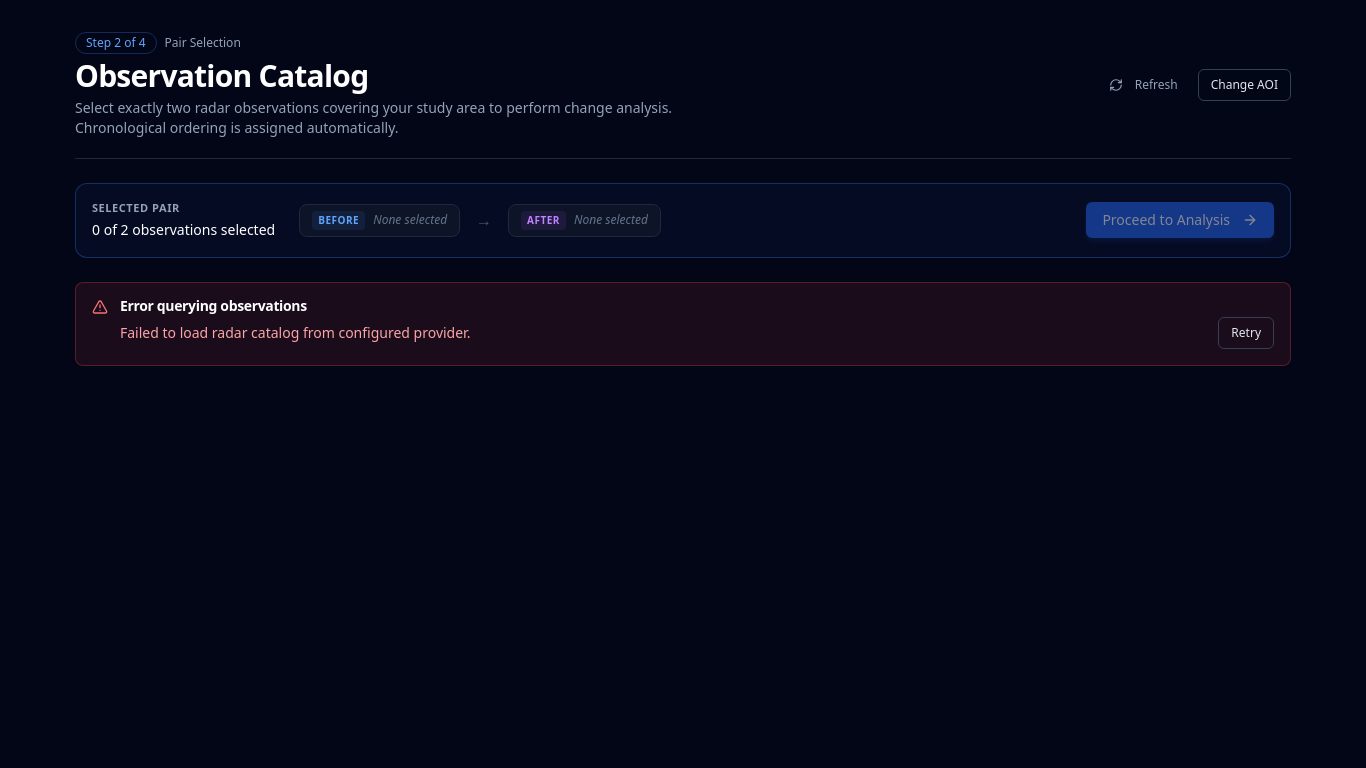
Test case: ObservationsPage › renders error alert with Retry and empty catalog state cleanly
Expected: the heading "Error querying observations" is shown, top-left (120, 296), bottom-right (307, 314)
Click the button "Retry": [1246, 332] box top-left (1218, 316), bottom-right (1274, 348)
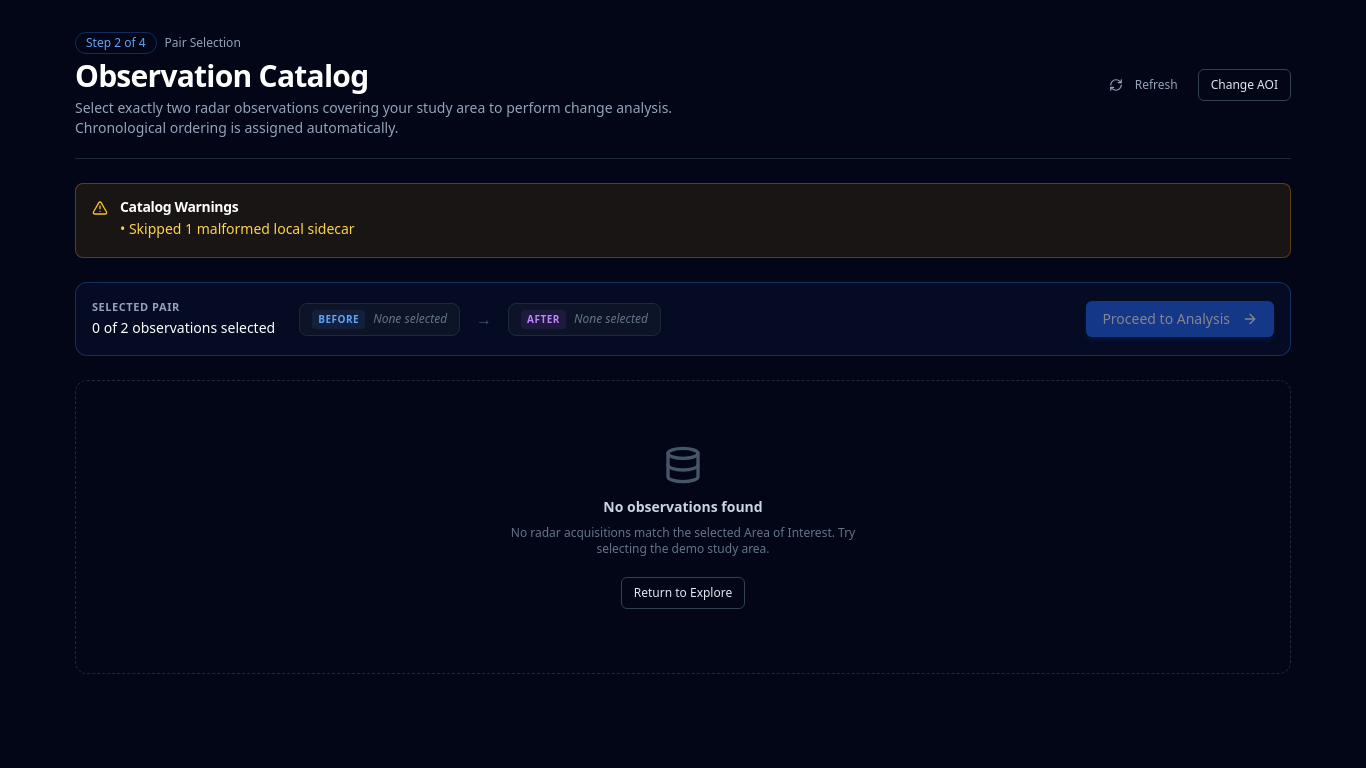
Expected: the text "No observations found" is shown, top-left (603, 497), bottom-right (763, 517)
Expected: the heading "Catalog Warnings" is shown, top-left (120, 197), bottom-right (238, 216)
Expected: the text "• Skipped 1 malformed local sidecar" is shown, top-left (120, 219), bottom-right (355, 238)
